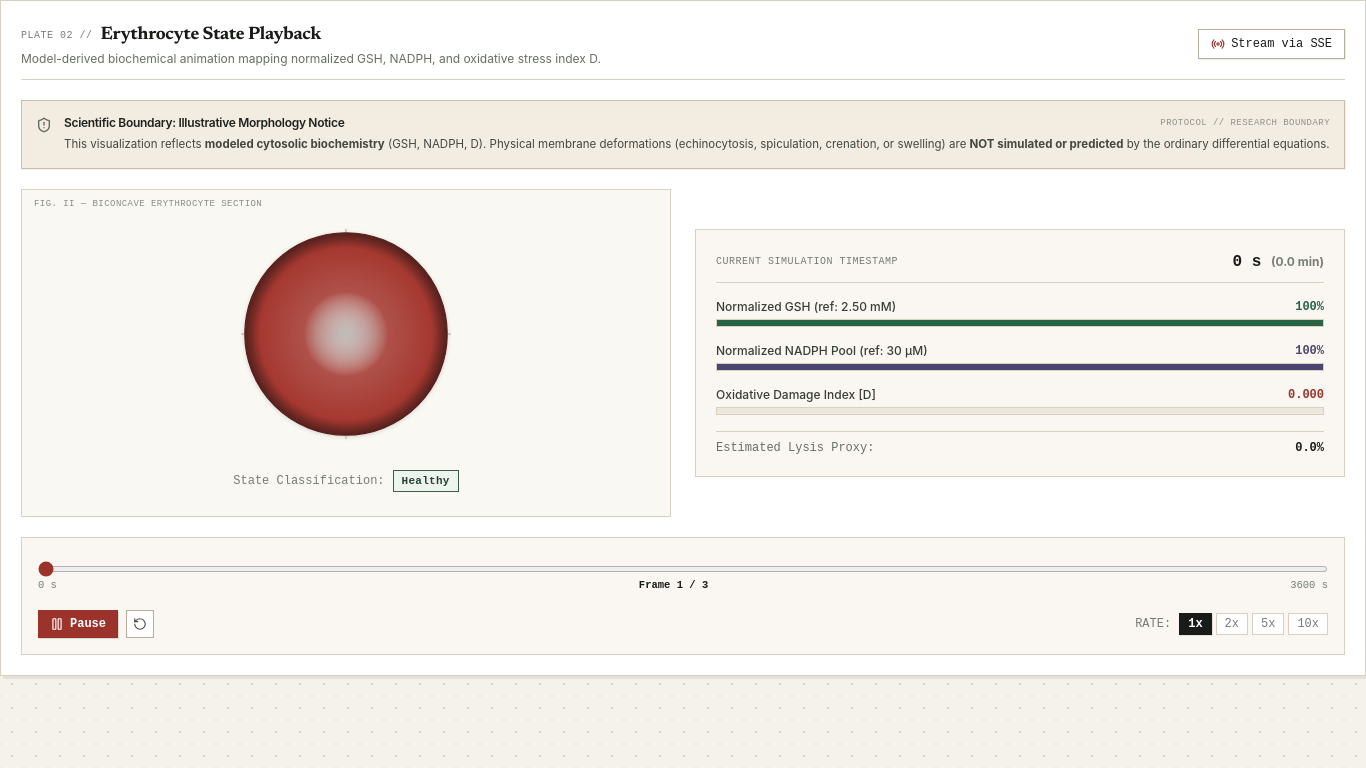
ErythrocyteViewer Component › scrubs to frame 2 and updates biochemical meters and lysis risk badge
The image size is (1366, 768).
Expected: the text "Frame 1 / 3" is shown, [639,578,708,594]
// Scrub to last frame (index 2)
Set the slider to "2" at (1320, 569), box [38,566,1328,572]
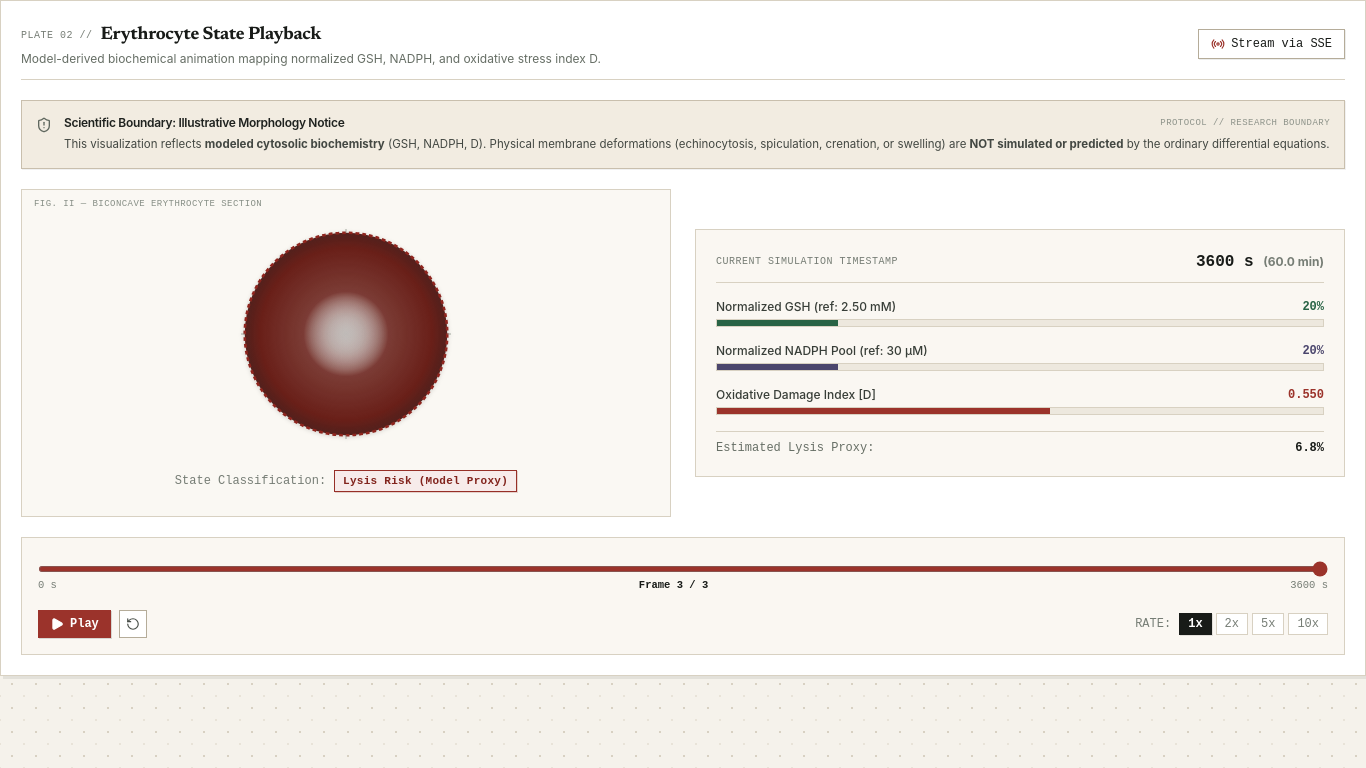
Expected: the text "Lysis Risk (Model Proxy)" is shown, [334,470,517,492]
Expected: the text "0.550" is shown, [1288,387,1324,403]
Expected: the text "6.8%" is shown, [1295,440,1324,456]
